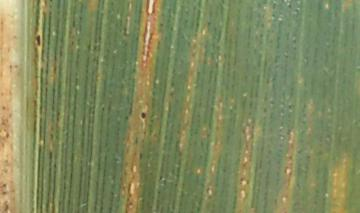tarspot: (33, 32, 43, 48), (139, 111, 147, 120)
